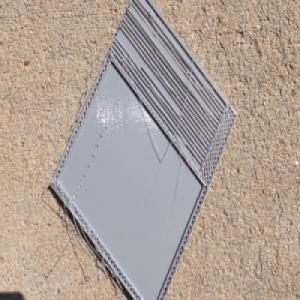PlasticPart: (49, 0, 239, 300)
